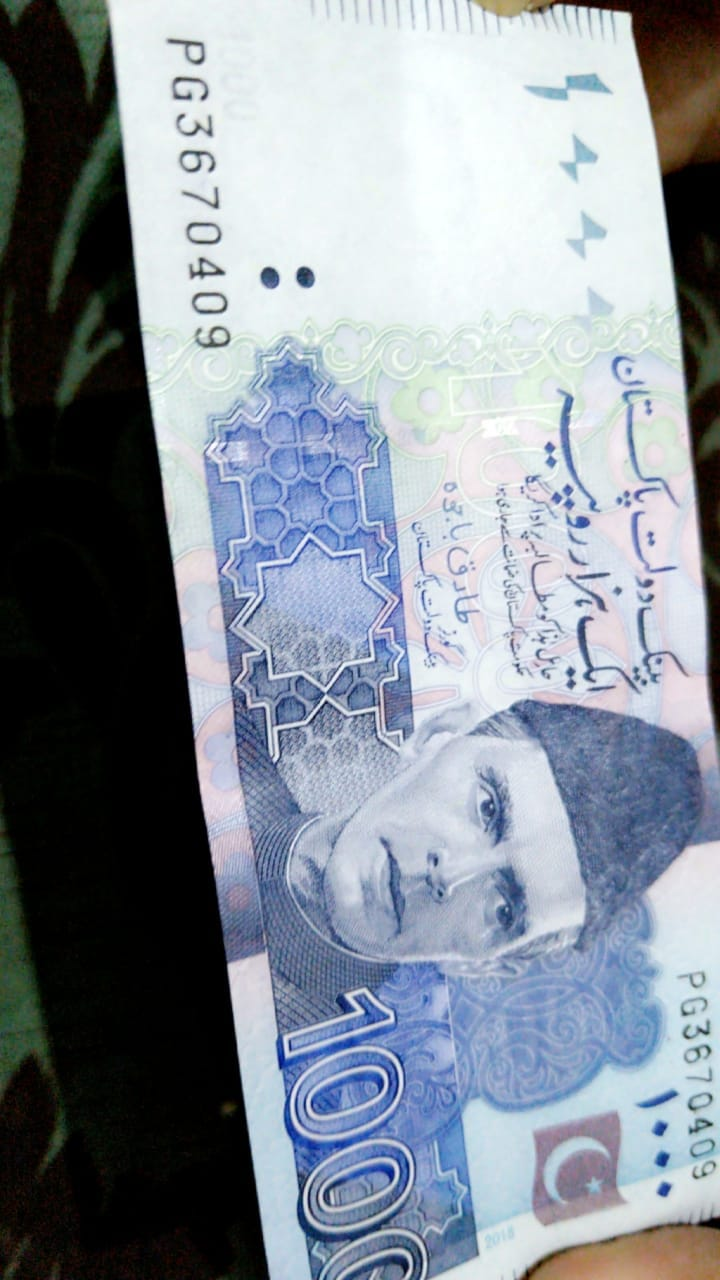1000 rupee: (99, 11, 706, 1264), (243, 218, 346, 338)
